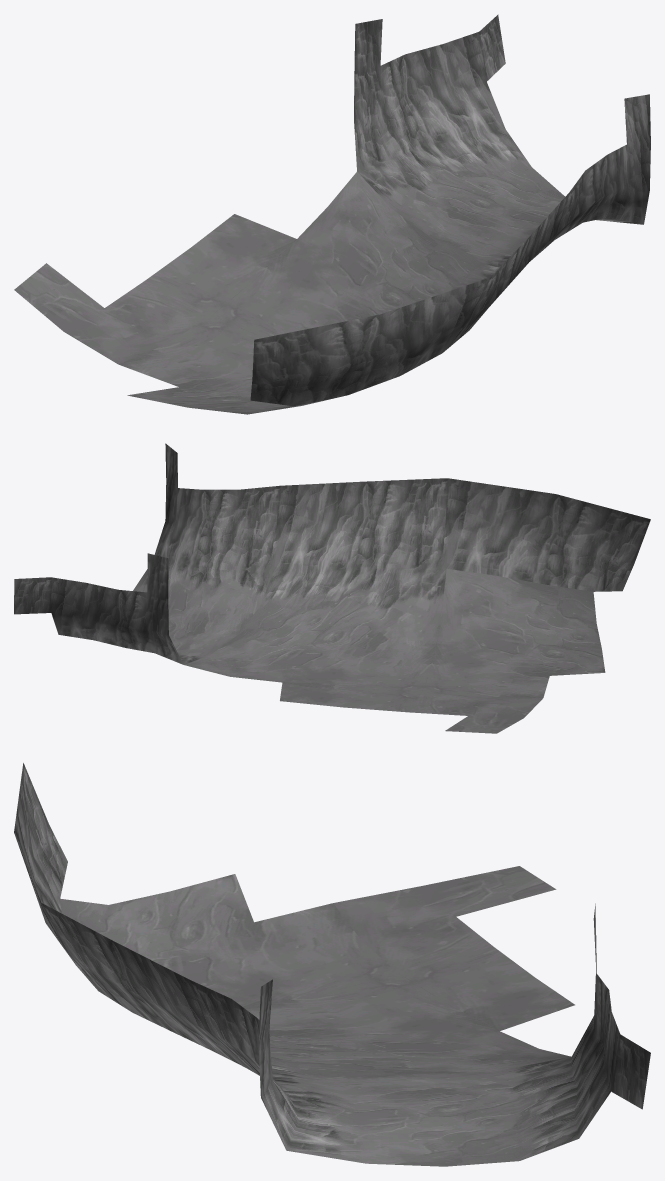
File: SWORDLIGHT20_PS-AREA02_03.fbx
3 views of the same model, one above another, from view 1: azimuth 30°, elevation 25°; view 2: azimuth 150°, elevation 25°; view 3: azimuth 270°, elevation 25° (orthographic). The views are drawn at different scales.
Visible parts, largest first — view 1: SWORDLIGHT20_PS-AREA02_03; view 2: SWORDLIGHT20_PS-AREA02_03; view 3: SWORDLIGHT20_PS-AREA02_03.
Boxes of the visible parts, x1,y1,x2,y2 form: SWORDLIGHT20_PS-AREA02_03: (14,14,650,414); SWORDLIGHT20_PS-AREA02_03: (14,443,650,733); SWORDLIGHT20_PS-AREA02_03: (14,763,650,1166).
Bounding box in the file's own units: 148470 × 46082 × 127998.
Materials: 4 (4 with a texture image).
